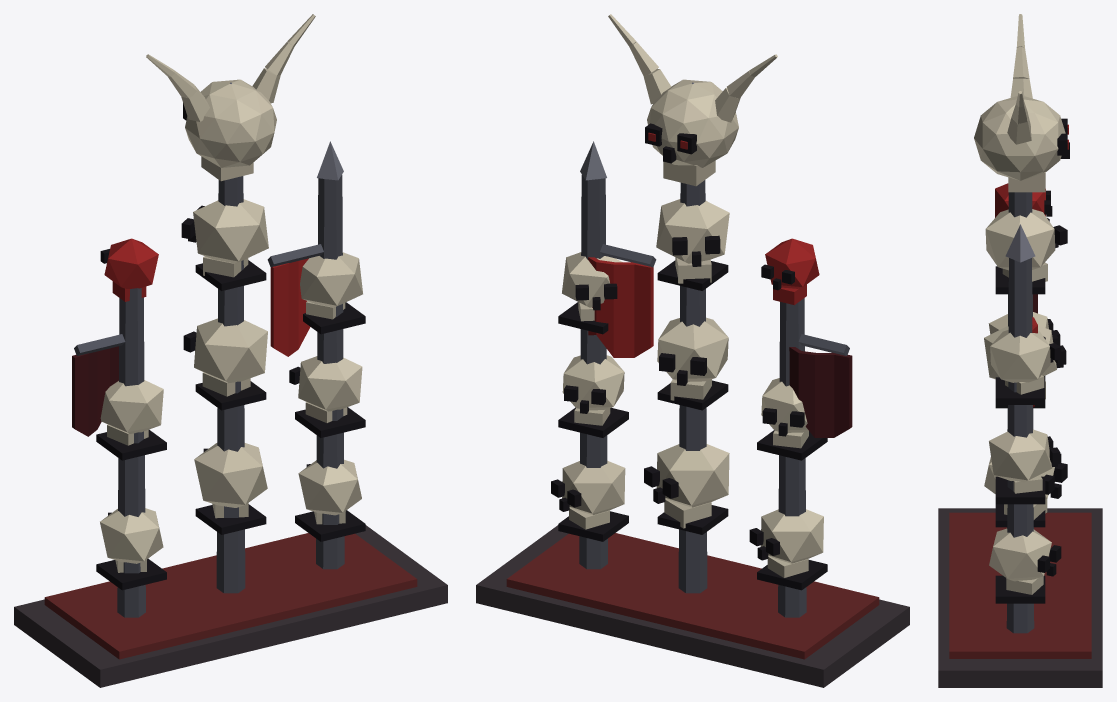
Rendered from Decor_HellGate_SkullTotems.fbx.
The picture shows the model from 3 angles, left to right: view 1: azimuth 30°, elevation 25°; view 2: azimuth 150°, elevation 25°; view 3: azimuth 270°, elevation 25°; orthographic projection. The views are drawn at different scales.
Parts seen in each view (by area): view 1: SkullTotems_Body; view 2: SkullTotems_Body; view 3: SkullTotems_Body.
Boxes of the visible parts, bbox=[...] form: SkullTotems_Body: bbox=[14, 14, 447, 687]; SkullTotems_Body: bbox=[476, 14, 909, 687]; SkullTotems_Body: bbox=[938, 14, 1102, 687].
Size of the model in its own units: 14 by 22.31 by 6.
